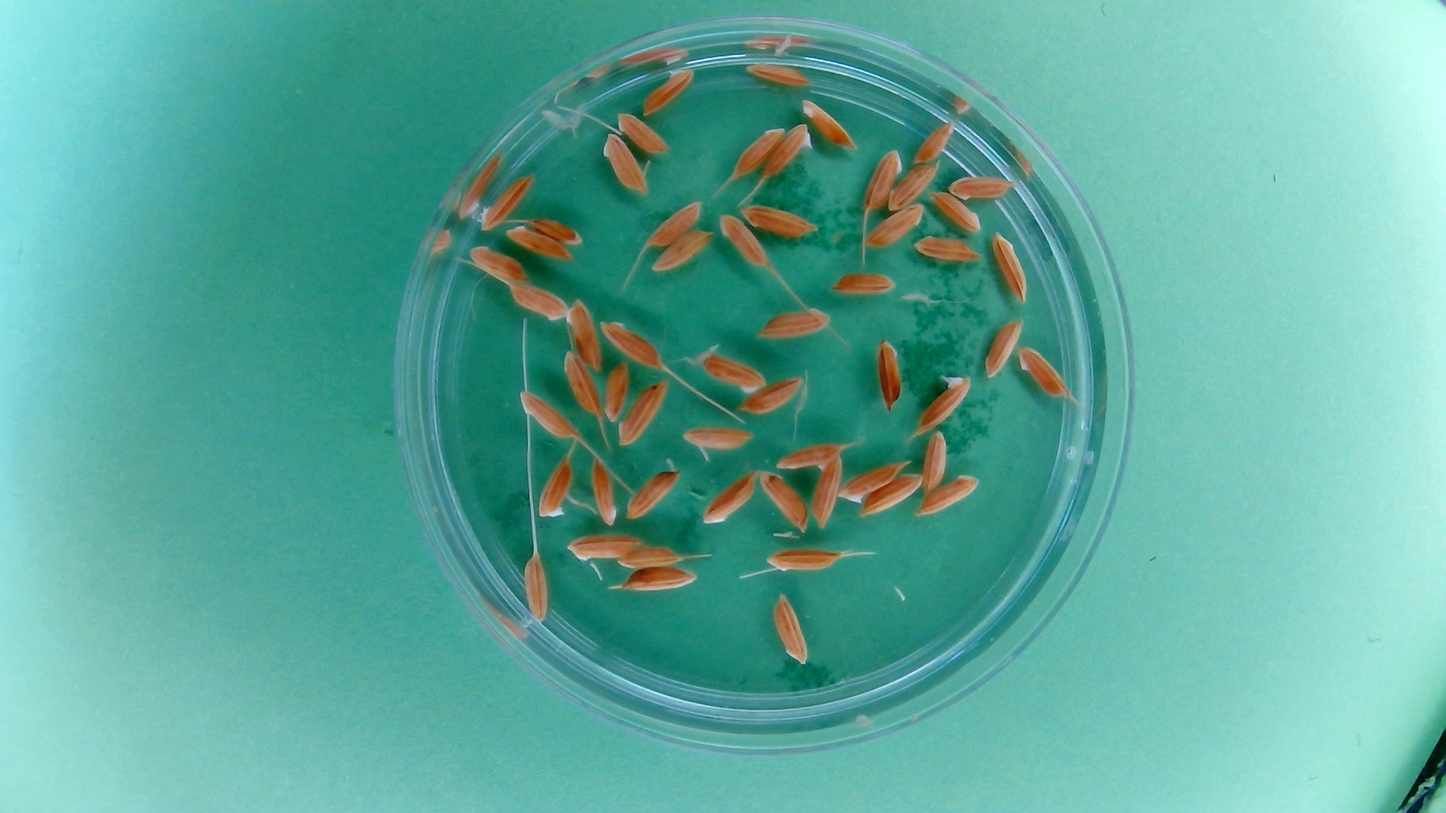no: (617, 377, 669, 447), (599, 317, 665, 372), (477, 171, 535, 233), (599, 129, 651, 196), (757, 469, 809, 534), (700, 470, 758, 528), (729, 122, 787, 179), (800, 96, 859, 152), (862, 201, 929, 250), (642, 196, 705, 248), (762, 120, 816, 180), (516, 388, 577, 441), (1016, 343, 1072, 400), (625, 465, 682, 521), (639, 65, 696, 120), (835, 460, 906, 504), (916, 471, 981, 519), (649, 227, 715, 274), (886, 160, 942, 215), (717, 211, 770, 269), (859, 472, 924, 519), (739, 201, 819, 239), (861, 145, 905, 214), (990, 230, 1030, 305), (699, 350, 767, 394), (503, 221, 575, 262), (560, 348, 602, 417), (564, 296, 602, 372), (772, 592, 811, 666), (506, 279, 571, 323), (738, 376, 804, 419), (808, 452, 845, 528), (465, 243, 530, 286), (615, 108, 672, 157), (981, 317, 1024, 381), (755, 306, 831, 342), (928, 187, 984, 235), (536, 458, 575, 521), (564, 534, 642, 565), (911, 231, 982, 265), (874, 337, 905, 413), (618, 566, 699, 595), (775, 440, 844, 474), (911, 117, 957, 168), (945, 170, 1015, 203), (742, 58, 814, 90), (764, 547, 843, 576), (520, 553, 551, 626), (587, 458, 619, 527), (830, 268, 898, 297), (920, 430, 950, 495), (602, 358, 632, 423), (614, 542, 684, 569), (529, 213, 584, 247), (686, 428, 751, 451)
yes: (916, 372, 972, 434)
